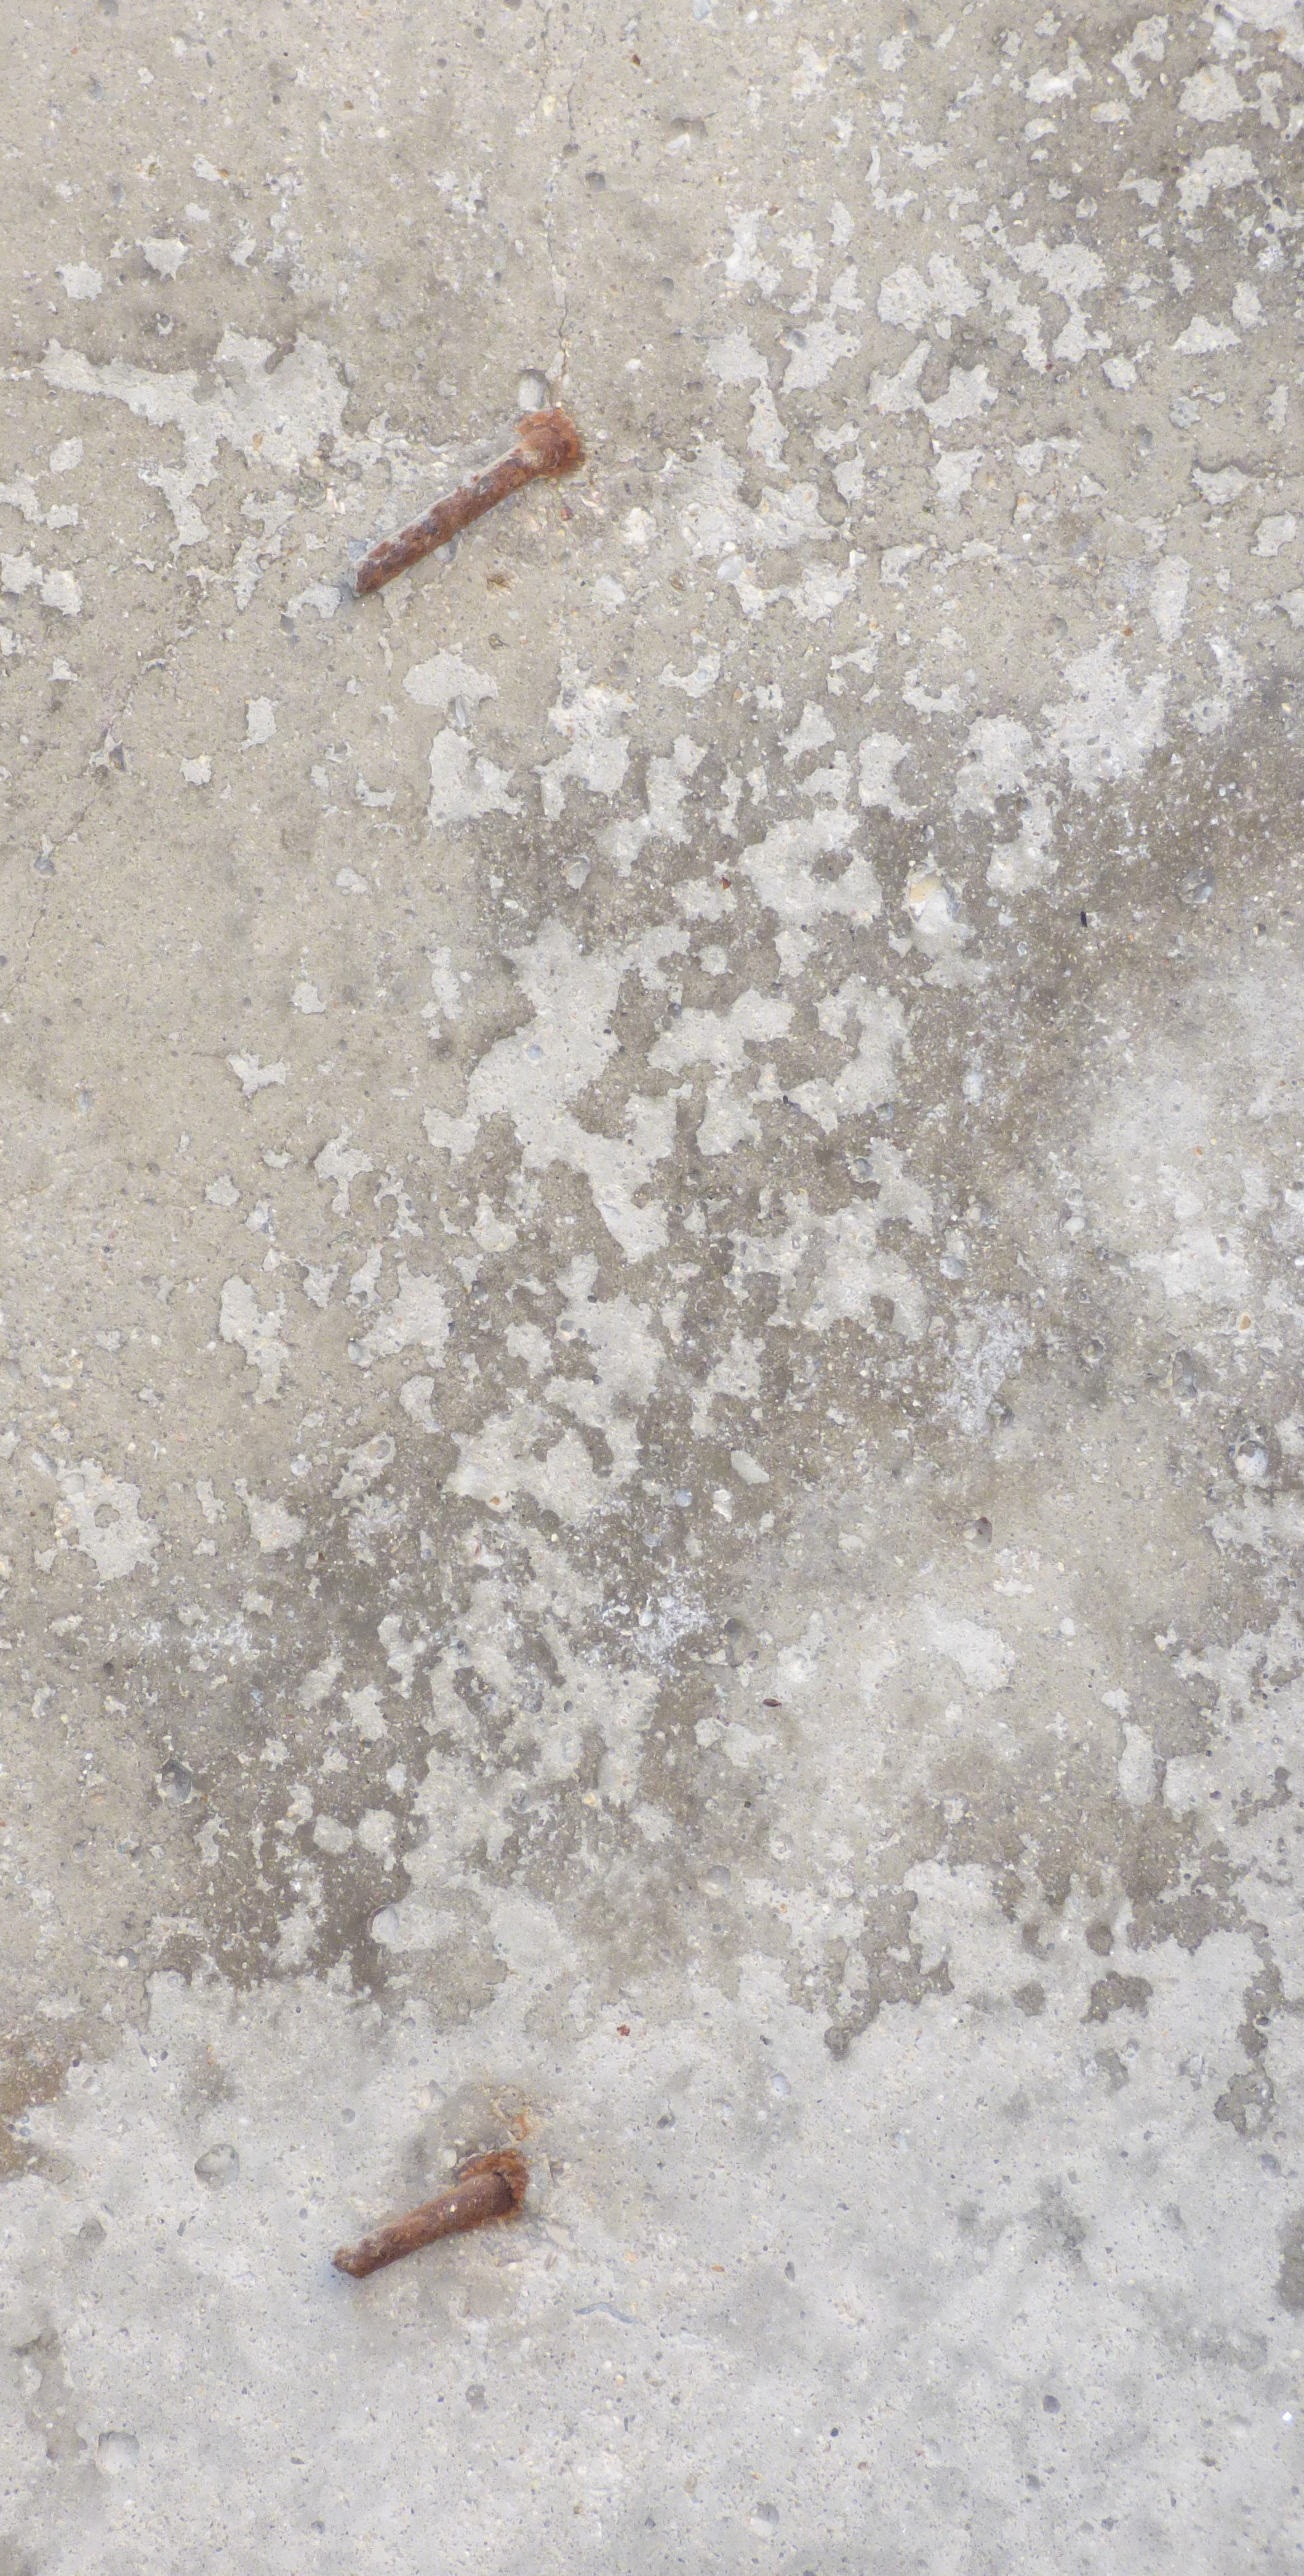Exposed reinforcement: (346, 432, 567, 600), (329, 2174, 512, 2280)
